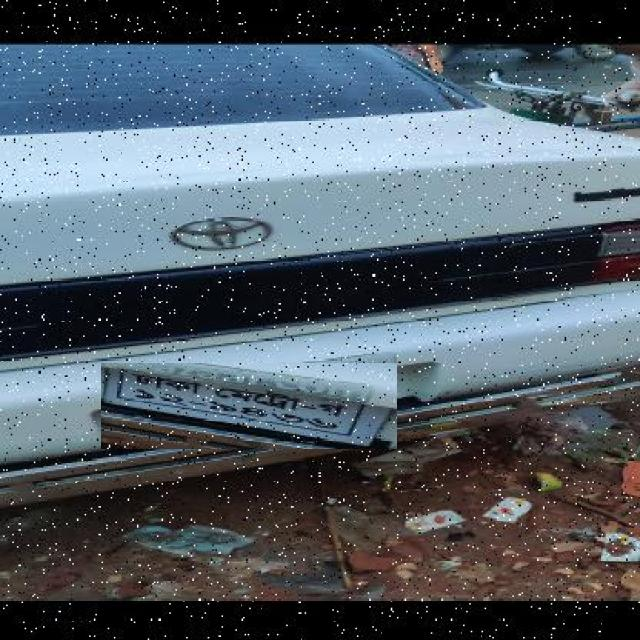numberplate: (101, 363, 397, 449)
